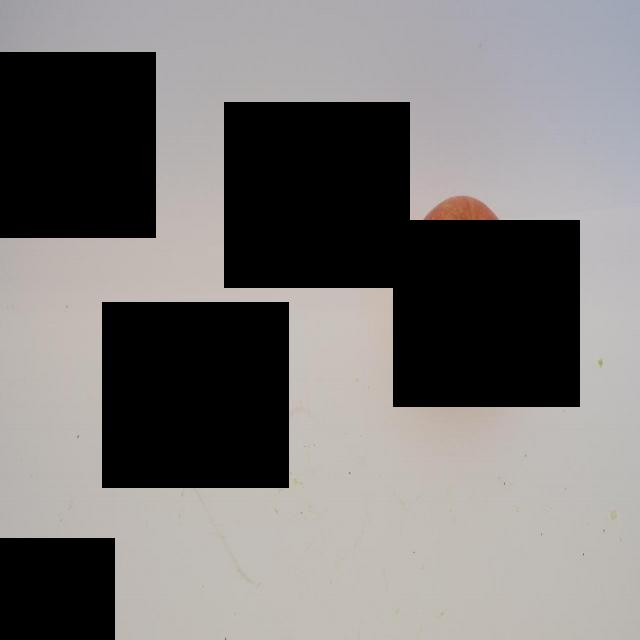apple: (403, 194, 517, 385)
